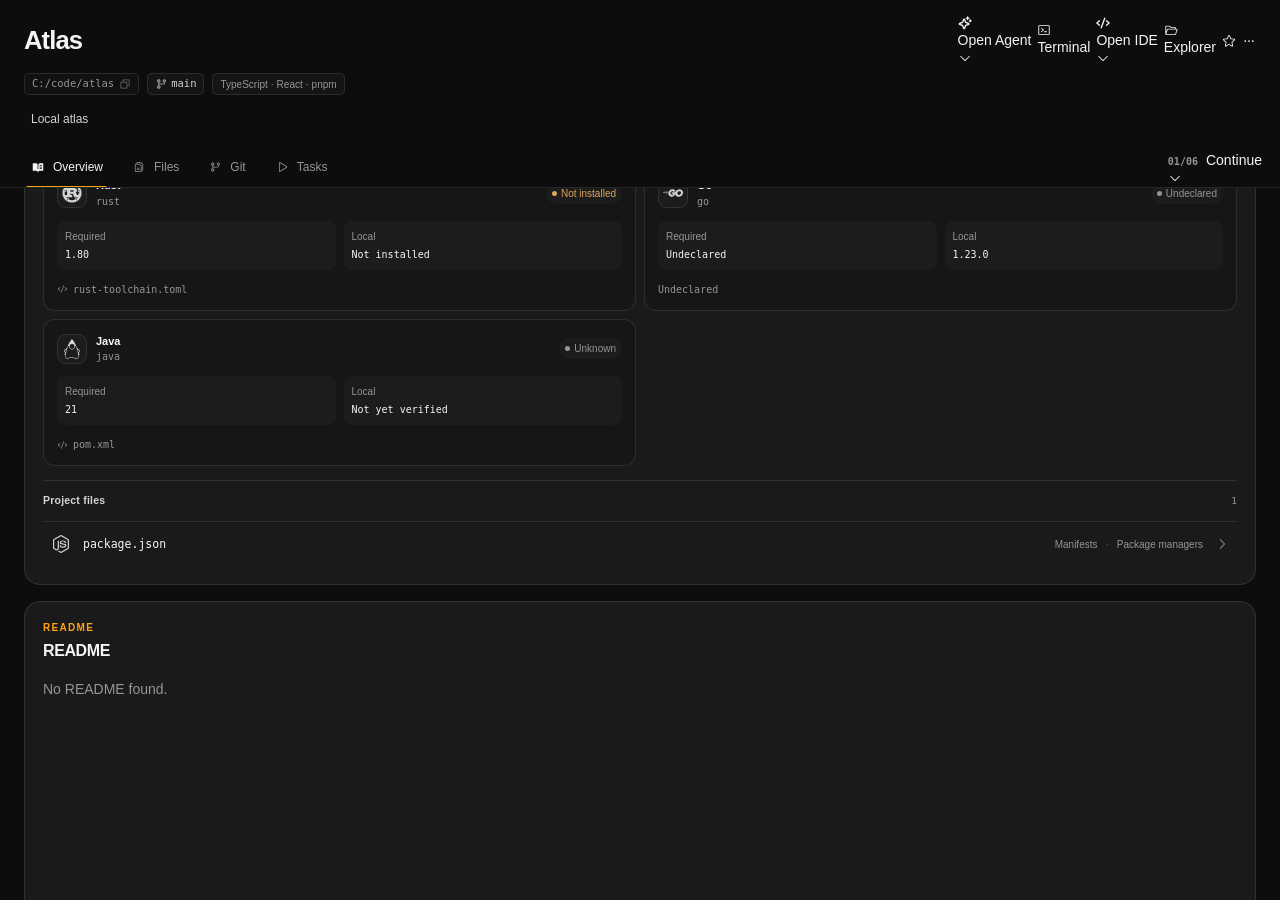
Test: overview workspace › keeps the overview switcher in the tab row and opens a file preview
The width and height of the screenshot is (1280, 900).
(page scrolled)
Expected: the tabs read "Overview", "Files", "Git", "Tasks", in this order, [18,148,115,187]; [119,148,191,187]; [195,148,258,187]; [262,148,339,187]
Expected: the button "01/06Continue" is shown, [1168,150,1262,185]
Click the button "package.json Manifests Package managers".
click(125, 544)  # box [43,522,1237,566]
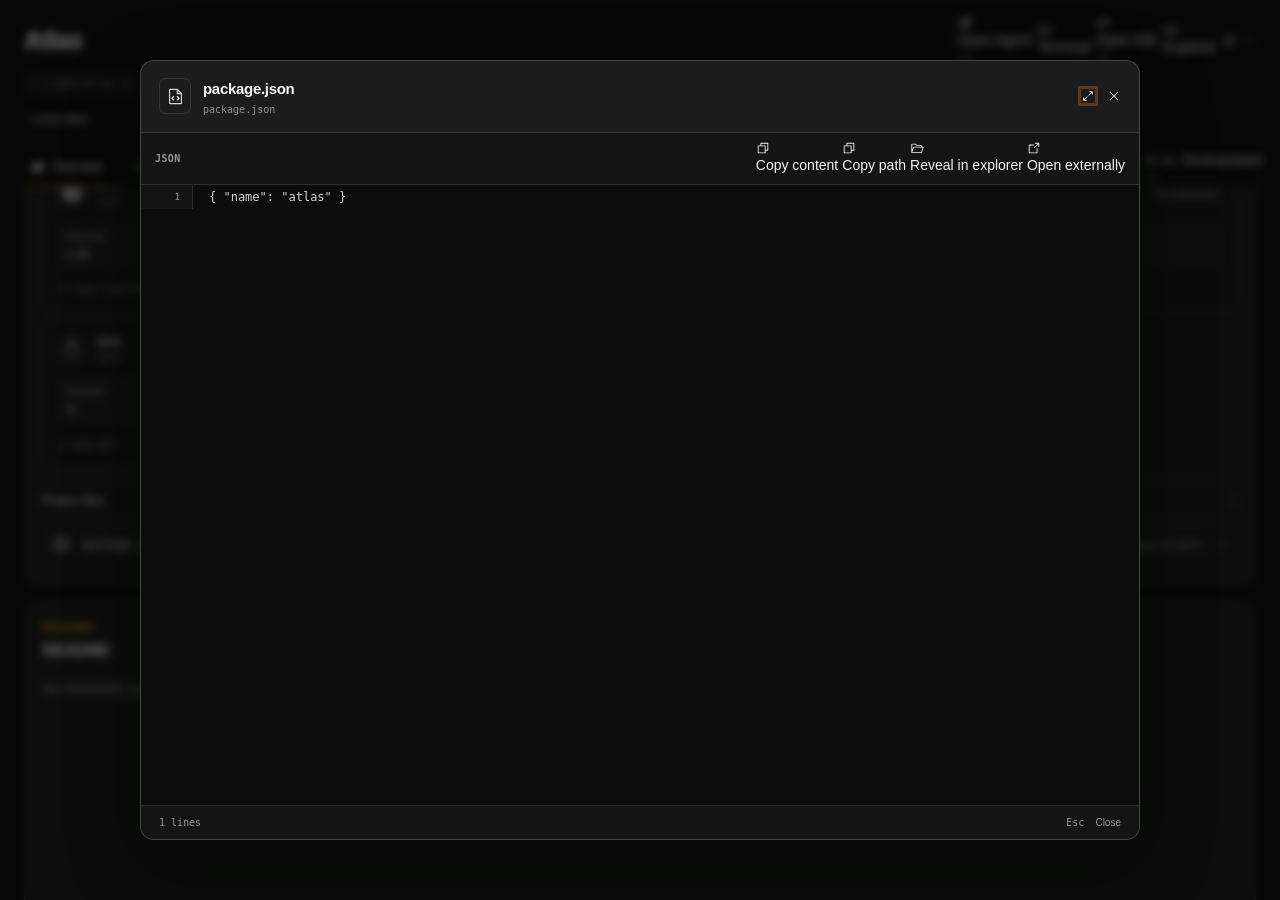
Now the button "Copy content" is enabled, box [756,140,838,176]
Now the button "Reveal in explorer" is shown, box [910,140,1023,176]
